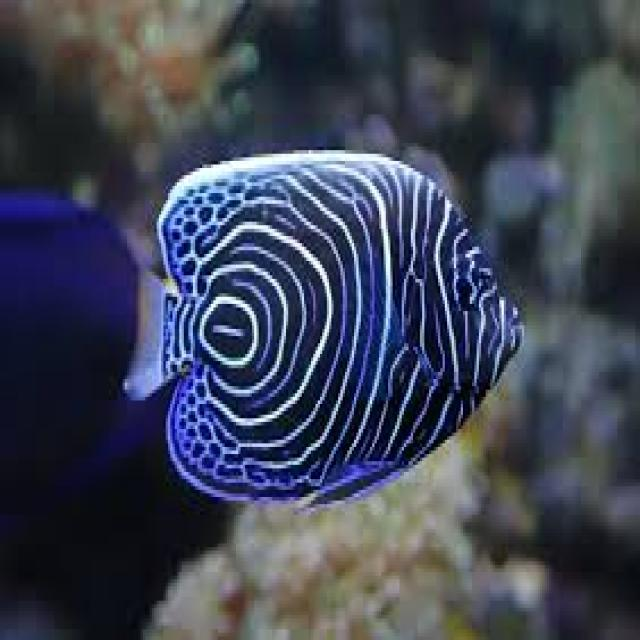AngelFish: (125, 148, 522, 512)
